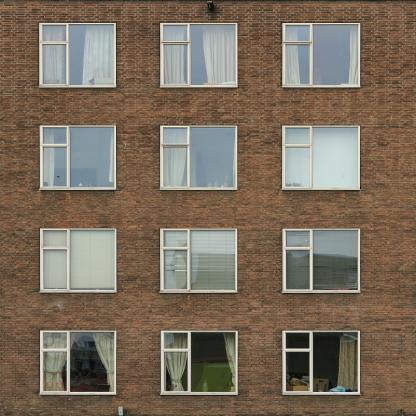Building Outline: (0, 0, 415, 415)
Facade: (0, 0, 415, 416)
Floor: (1, 16, 416, 115), (1, 120, 416, 219), (1, 223, 416, 320), (1, 324, 416, 411)
Floor Slab: (1, 12, 416, 16), (1, 412, 416, 416), (1, 320, 416, 324), (1, 219, 416, 223), (1, 116, 416, 120)
Window: (40, 23, 116, 87), (161, 23, 237, 87), (284, 23, 360, 87), (40, 126, 116, 190), (161, 126, 237, 190), (284, 126, 360, 190), (40, 331, 116, 394), (161, 331, 237, 394), (40, 229, 116, 292), (161, 229, 237, 292), (284, 331, 359, 394), (284, 229, 359, 292)
